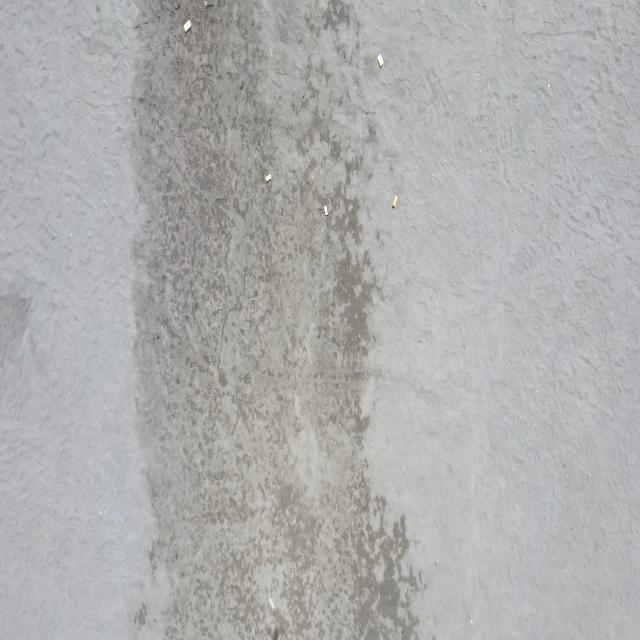Garbage: (183, 19, 191, 32), (268, 596, 275, 609), (376, 54, 383, 67), (392, 193, 397, 207), (264, 173, 271, 181), (203, 0, 213, 5), (324, 204, 327, 215)
